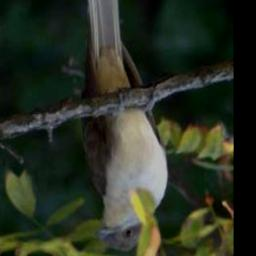Cuckoo: (76, 0, 169, 252)
